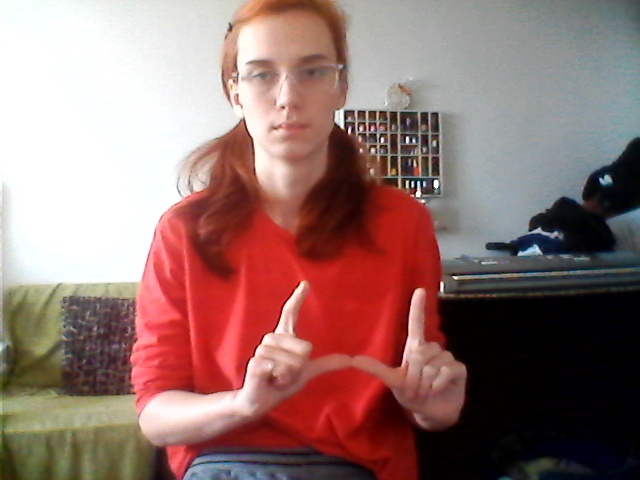u: (234, 274, 478, 429)
